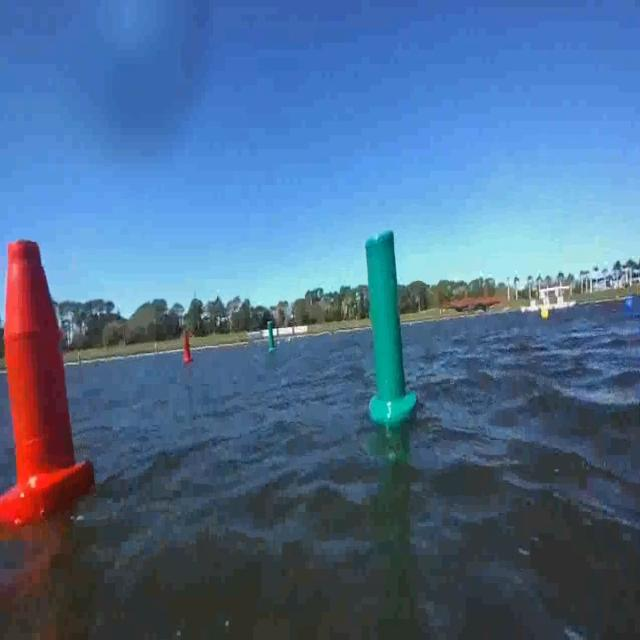blue-buoy: (624, 297, 636, 317)
green-column-buoy: (362, 230, 415, 428), (268, 322, 279, 354)
red-column-buoy: (0, 241, 94, 528), (185, 334, 195, 364)
yellow-buoy: (540, 307, 549, 322)
